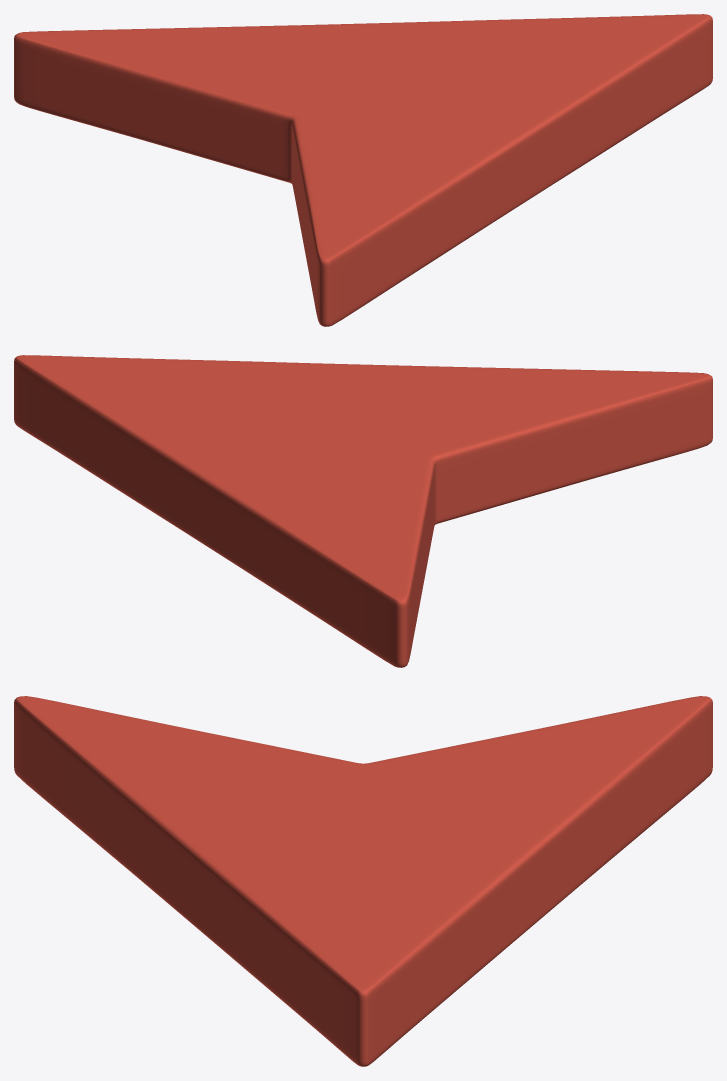
Rendered from uploads_files_840188_icon_web__arrow.fbx.
The picture shows the model from 3 angles, top to bottom: view 1: azimuth 30°, elevation 25°; view 2: azimuth 150°, elevation 25°; view 3: azimuth 270°, elevation 25°; orthographic projection. The views are drawn at different scales.
Visible parts, largest first — view 1: icon_web_arrow; view 2: icon_web_arrow; view 3: icon_web_arrow.
Part boxes in pixels (<box>): icon_web_arrow: <box>14,14,712,326</box>; icon_web_arrow: <box>14,355,712,667</box>; icon_web_arrow: <box>14,696,712,1066</box>.
Size of the model in its own units: 12.47 by 1.5 by 12.37.
